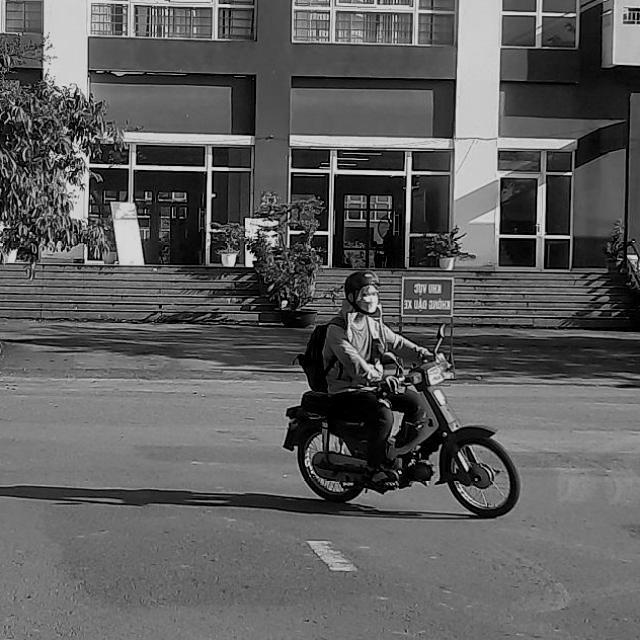Helmet: (341, 266, 384, 315)
